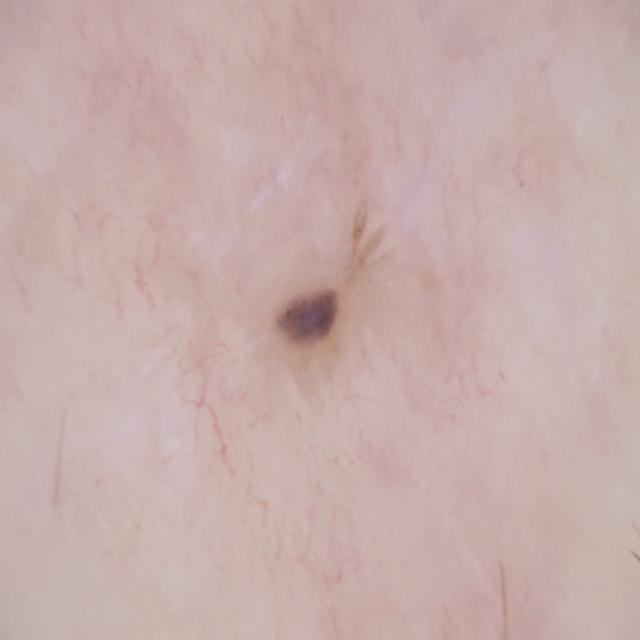Skin-Cancer Basal cell carcinoma: (79, 64, 510, 511)
